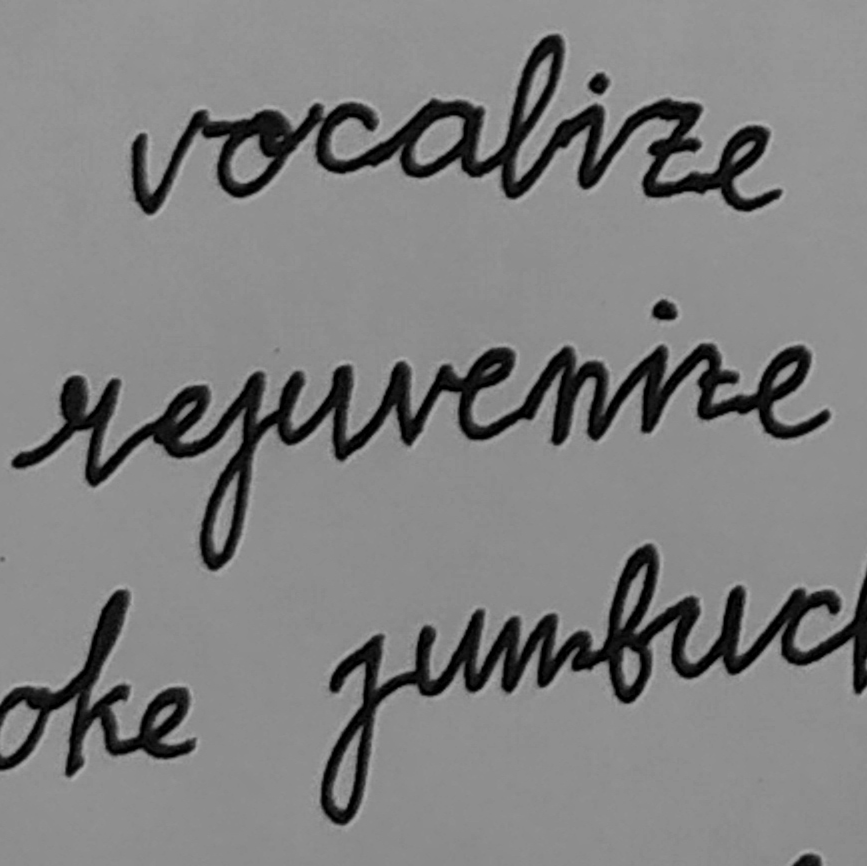e: (753, 341, 832, 444), (456, 340, 527, 444), (146, 378, 218, 464)
i: (625, 293, 683, 439)
j: (195, 365, 269, 575)
n: (539, 339, 617, 451)
r: (9, 369, 126, 493)
u: (270, 358, 363, 463)
v: (381, 349, 455, 448)
z: (685, 335, 749, 424)
